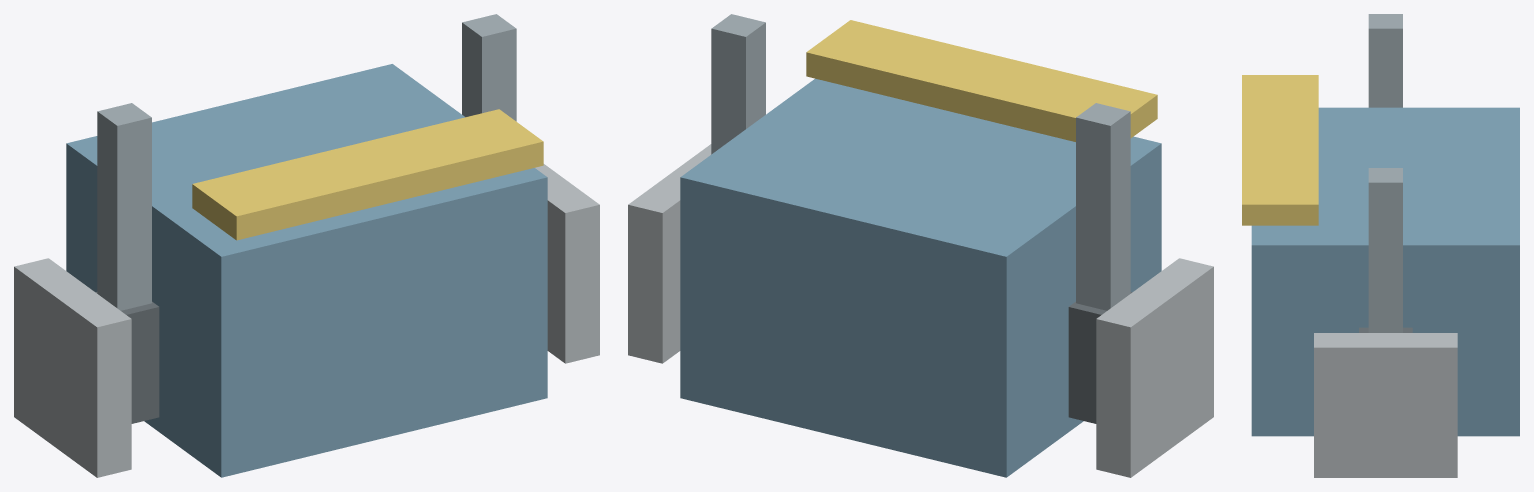
File: grinder_lod1.glb
3 renders of one model, left to right at view 1: azimuth 30°, elevation 25°; view 2: azimuth 150°, elevation 25°; view 3: azimuth 270°, elevation 25°, orthographic. The views are drawn at different scales.
Visible parts, largest first — view 1: grinder-node-0, grinder-node-7, grinder-node-5, grinder-node-1, grinder-node-6, grinder-node-2, grinder-node-3; view 2: grinder-node-0, grinder-node-5, grinder-node-7, grinder-node-1, grinder-node-6, grinder-node-2, grinder-node-3; view 3: grinder-node-0, grinder-node-6, grinder-node-7, grinder-node-2, grinder-node-1.
Part boxes in pixels (<box>): grinder-node-0: <box>66,64,547,477</box>; grinder-node-7: <box>192,109,543,240</box>; grinder-node-5: <box>14,258,131,477</box>; grinder-node-1: <box>97,103,151,310</box>; grinder-node-6: <box>535,164,599,363</box>; grinder-node-2: <box>462,14,516,121</box>; grinder-node-3: <box>95,292,159,423</box>; grinder-node-0: <box>680,78,1161,477</box>; grinder-node-5: <box>1096,258,1213,477</box>; grinder-node-7: <box>806,20,1157,141</box>; grinder-node-1: <box>1076,103,1130,310</box>; grinder-node-6: <box>628,144,711,363</box>; grinder-node-2: <box>711,14,765,154</box>; grinder-node-3: <box>1068,292,1132,423</box>; grinder-node-0: <box>1251,107,1519,436</box>; grinder-node-6: <box>1314,333,1457,477</box>; grinder-node-7: <box>1242,75,1318,225</box>; grinder-node-2: <box>1368,168,1402,332</box>; grinder-node-1: <box>1368,14,1402,107</box>.
Bounding box in the file's own units: 2.62 × 1.58 × 1.45.
